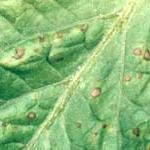Tomato mold leaf: (0, 2, 148, 150)
